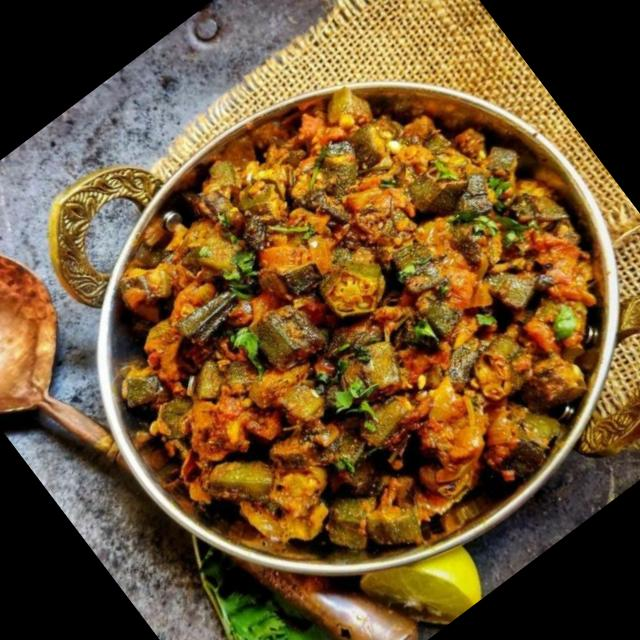BhindiMasala: (27, 7, 640, 640)
